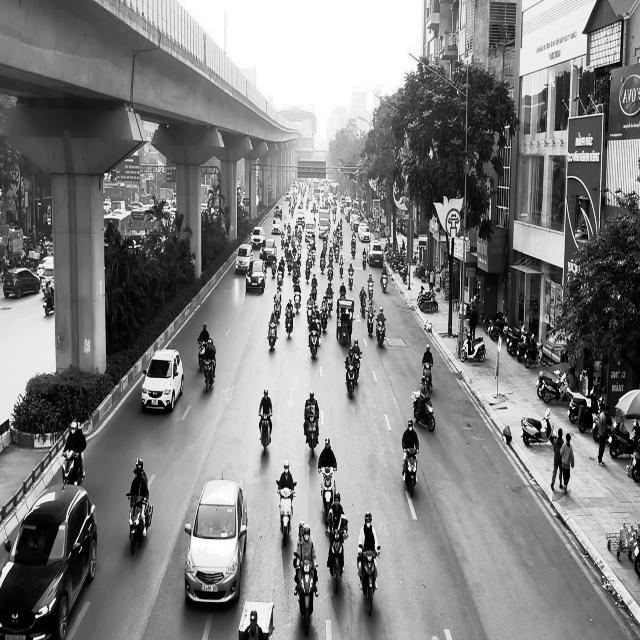car: (0, 484, 98, 640), (184, 475, 248, 606), (142, 348, 184, 413), (246, 259, 266, 294)
motorbike: (294, 553, 318, 635), (126, 492, 154, 556), (325, 522, 349, 594), (358, 546, 380, 616), (277, 480, 297, 544), (412, 391, 435, 432), (319, 466, 337, 516), (62, 450, 85, 489), (402, 446, 419, 497), (461, 331, 486, 362), (305, 406, 319, 458), (258, 411, 272, 455), (345, 361, 357, 399), (204, 356, 216, 392), (267, 319, 279, 349), (366, 305, 376, 337), (422, 362, 433, 390), (376, 317, 386, 347), (285, 310, 295, 338), (198, 341, 207, 372), (347, 268, 354, 290), (381, 274, 388, 293)
